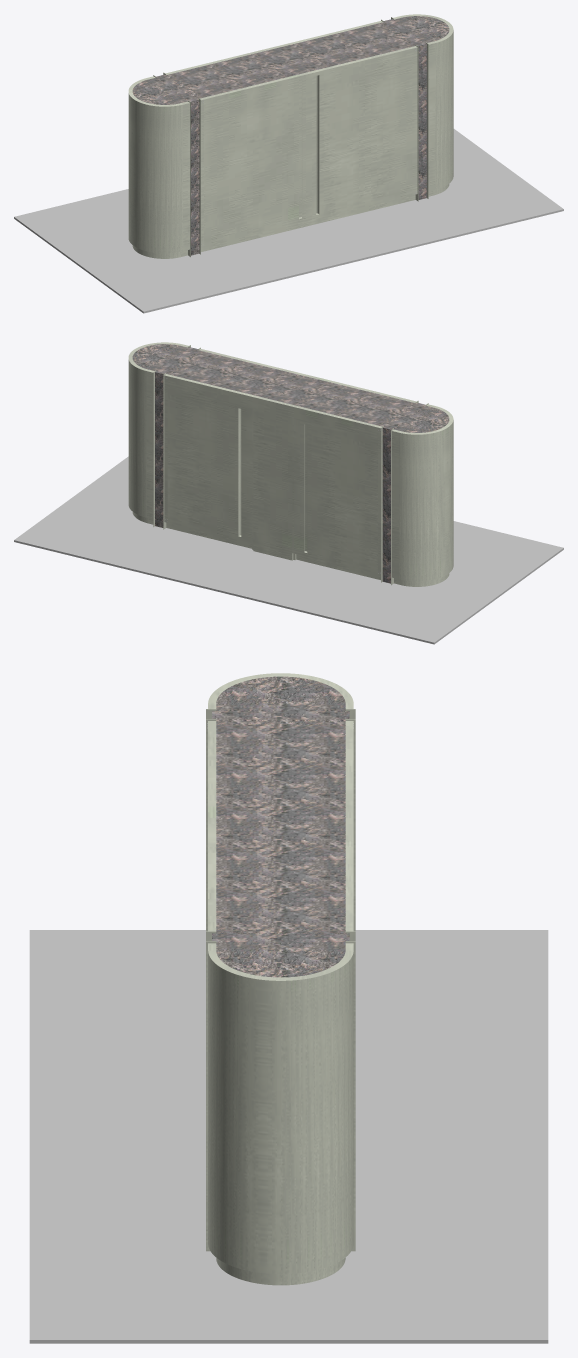
File: oct2025CLOSEDHidden TV Cabinet 2025.glb
3 renders of one model, top to bottom at view 1: azimuth 30°, elevation 25°; view 2: azimuth 150°, elevation 25°; view 3: azimuth 270°, elevation 25°, orthographic. The views are drawn at different scales.
Parts seen in each view (by area): view 1: root; view 2: root; view 3: root.
Boxes of the visible parts, x1,y1,x2,y2 form: root: [14, 14, 563, 313]; root: [14, 342, 563, 644]; root: [29, 673, 548, 1343].
Size of the model in its own units: 3.05 by 1.13 by 1.63.
14 materials, 8 textured.
